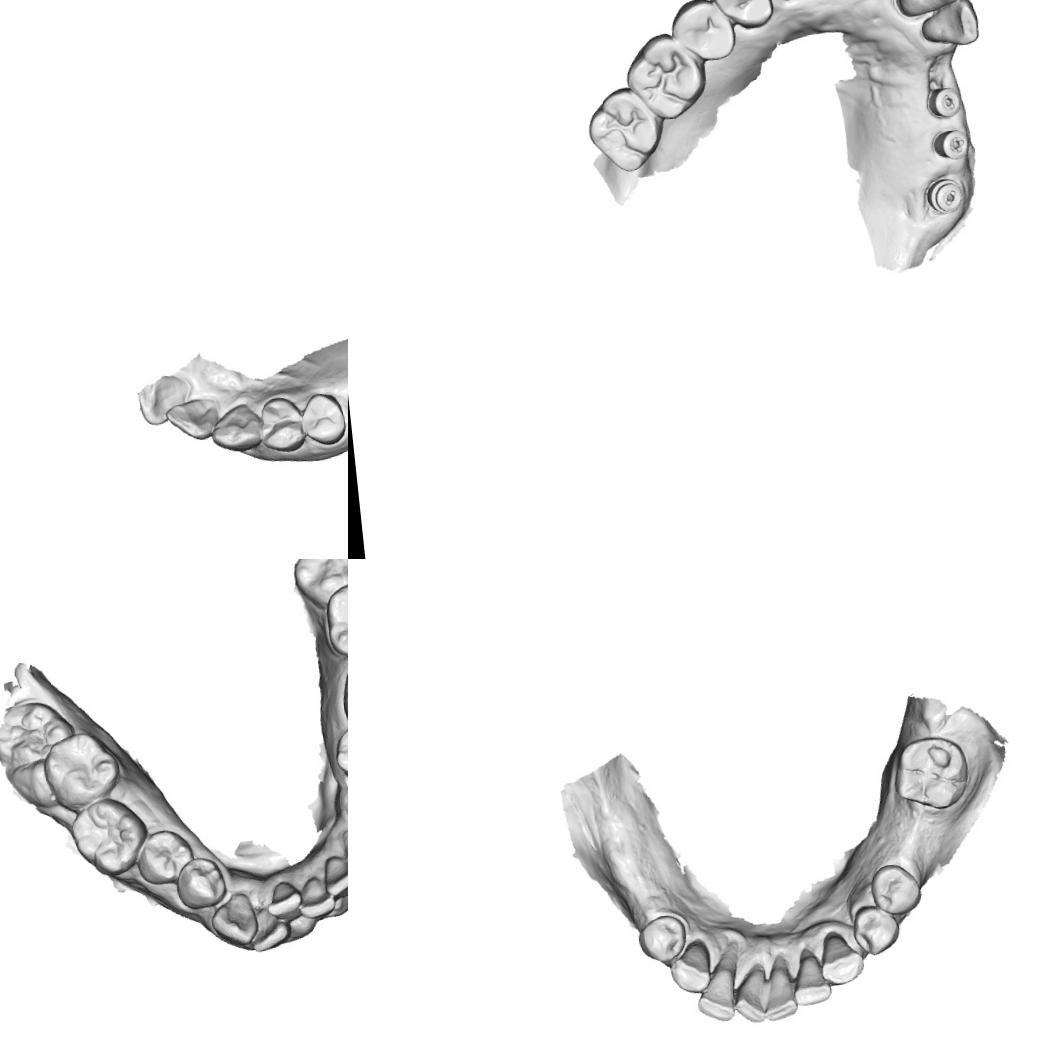canine: (207, 399, 266, 456), (208, 890, 260, 948), (816, 928, 866, 987), (665, 940, 714, 996)
implant_minus: (922, 174, 966, 218), (924, 85, 963, 121)
implant_plus: (931, 127, 972, 166)
incisor: (692, 948, 744, 1025), (916, 0, 980, 50), (134, 372, 192, 427), (756, 952, 800, 1024), (164, 393, 224, 444), (788, 945, 834, 1007), (730, 963, 771, 1026), (246, 904, 294, 954), (296, 874, 337, 920), (264, 878, 304, 922), (892, 0, 965, 19), (321, 852, 348, 899)
molar: (620, 28, 710, 124), (888, 724, 980, 815), (582, 82, 668, 177), (68, 792, 152, 880), (40, 729, 124, 815), (0, 697, 77, 769), (289, 559, 348, 614), (323, 576, 348, 660)
premolar: (667, 0, 737, 64), (134, 826, 196, 887), (172, 854, 228, 912), (868, 860, 924, 918), (255, 393, 306, 456), (298, 387, 348, 450), (849, 902, 903, 958), (634, 912, 690, 966), (709, 0, 776, 31), (331, 723, 348, 781)
